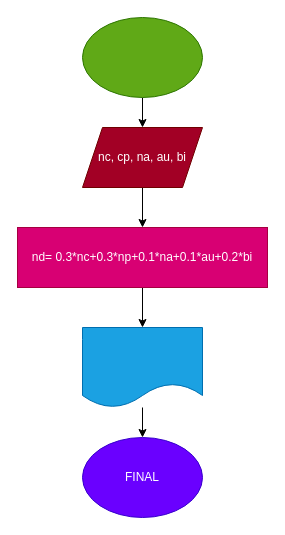
This 285x535 diagram has some shape labels left out. The centre of each missing label's shape, as x and y in pixels:
INICIO: [142,57]
nd: [142,367]
